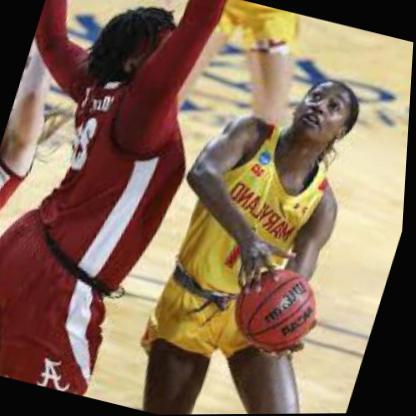basketball: (231, 262, 331, 360)
